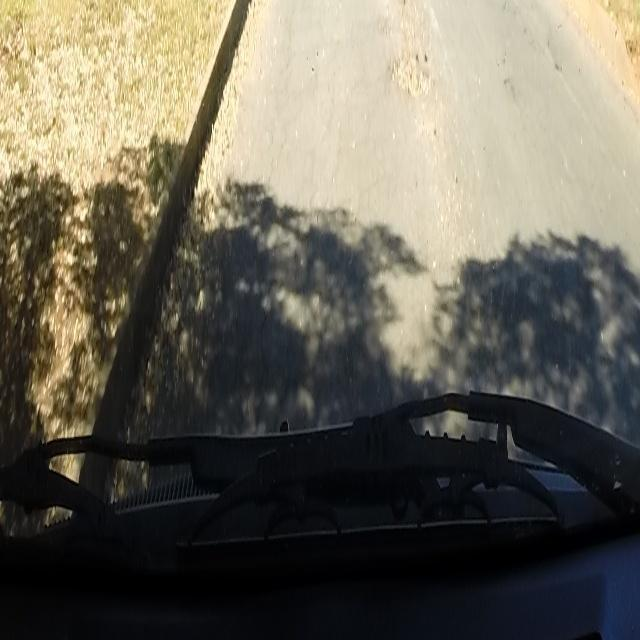pothole: (390, 50, 430, 100), (385, 0, 416, 23)
